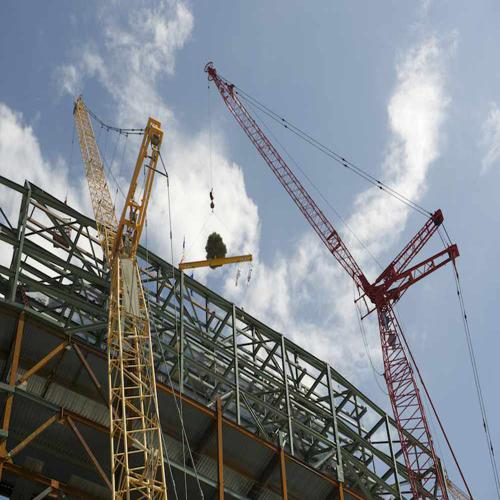con_eq: (68, 99, 168, 493)
